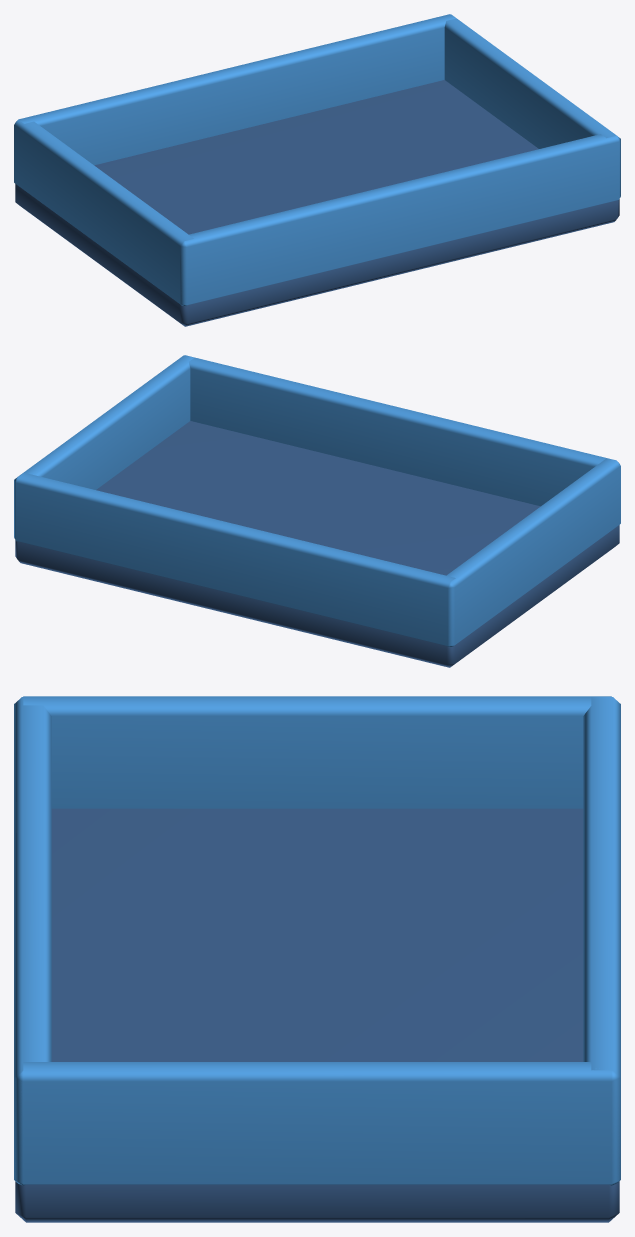
The model's file is CollectionPit.fbx.
The picture shows the model from 3 angles, top to bottom: view 1: azimuth 30°, elevation 25°; view 2: azimuth 150°, elevation 25°; view 3: azimuth 270°, elevation 25°; orthographic projection. The views are drawn at different scales.
Visible parts, largest first — view 1: pile tray base, pile tray short wall, pile tray short wall.001, pile tray long wall, pile tray long wall.001; view 2: pile tray base, pile tray short wall.001, pile tray short wall, pile tray long wall, pile tray long wall.001; view 3: pile tray base, pile tray long wall.001, pile tray long wall, pile tray short wall.001, pile tray short wall.
Boxes of the visible parts, x1,y1,x2,y2 form: pile tray base: [15, 80, 619, 326]; pile tray short wall: [181, 134, 619, 305]; pile tray short wall.001: [15, 14, 455, 165]; pile tray long wall: [14, 120, 193, 305]; pile tray long wall.001: [444, 14, 620, 198]; pile tray base: [15, 421, 619, 667]; pile tray short wall.001: [14, 472, 455, 646]; pile tray short wall: [185, 355, 616, 506]; pile tray long wall: [447, 458, 620, 646]; pile tray long wall.001: [14, 355, 193, 539]; pile tray base: [15, 808, 619, 1222]; pile tray long wall.001: [15, 1062, 619, 1185]; pile tray long wall: [23, 696, 611, 808]; pile tray short wall.001: [583, 697, 620, 1183]; pile tray short wall: [14, 697, 51, 1184].
Bounding box in the file's own units: 336 × 63 × 226.
